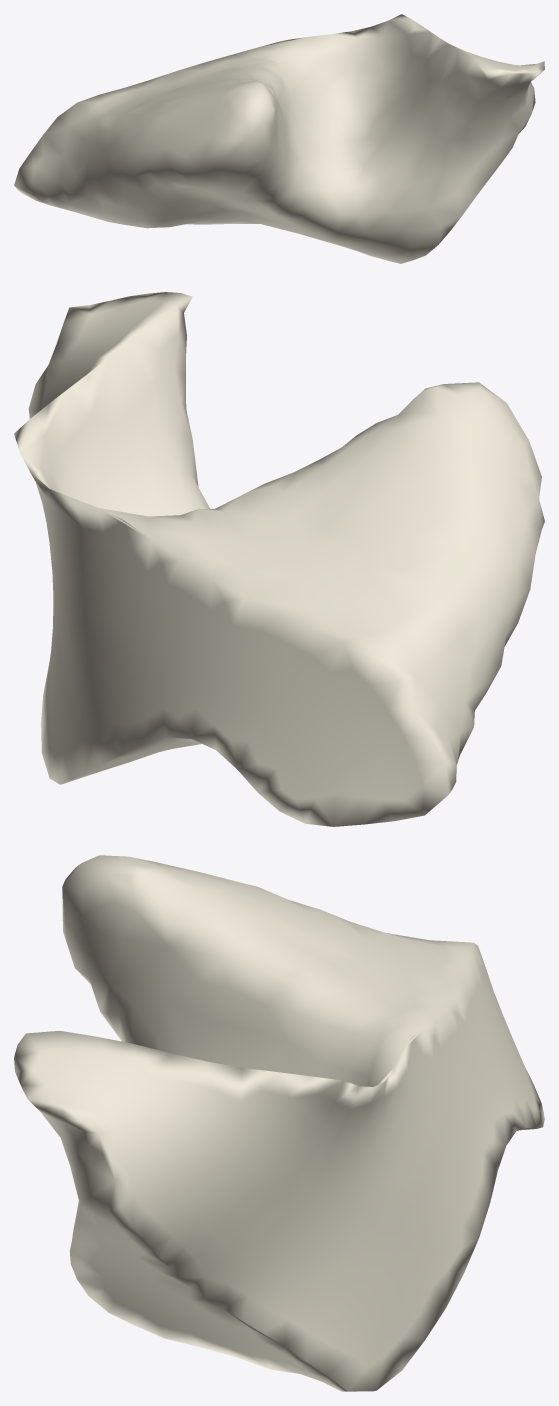
The model's file is fma86296_mm970.glb.
The picture shows the model from 3 angles, top to bottom: view 1: azimuth 30°, elevation 25°; view 2: azimuth 150°, elevation 25°; view 3: azimuth 270°, elevation 25°; orthographic projection. The views are drawn at different scales.
Parts seen in each view (by area): view 1: FMA86296_MM970; view 2: FMA86296_MM970; view 3: FMA86296_MM970.
Part boxes in pixels (bbox=[...]): FMA86296_MM970: bbox=[14, 14, 544, 263]; FMA86296_MM970: bbox=[14, 292, 544, 826]; FMA86296_MM970: bbox=[14, 855, 544, 1391].
Size of the model in its own units: 0.0228 by 0.0135 by 0.0167.
